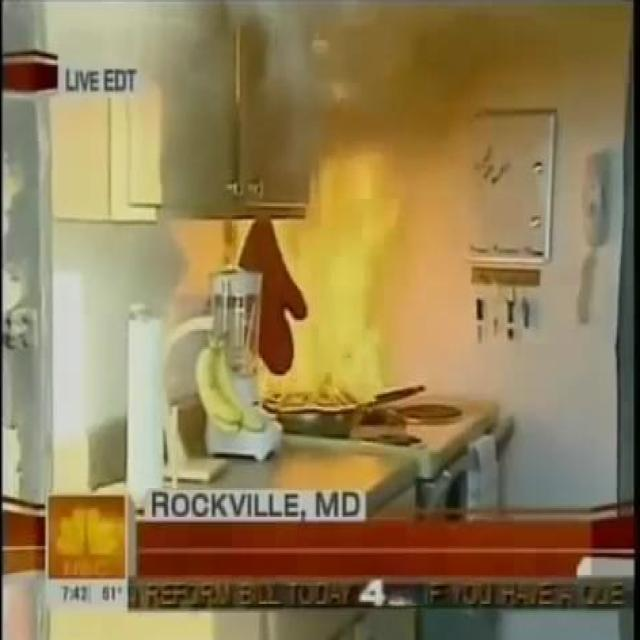fire: (228, 0, 468, 145), (2, 1, 198, 104)
smoke: (255, 154, 400, 412)
